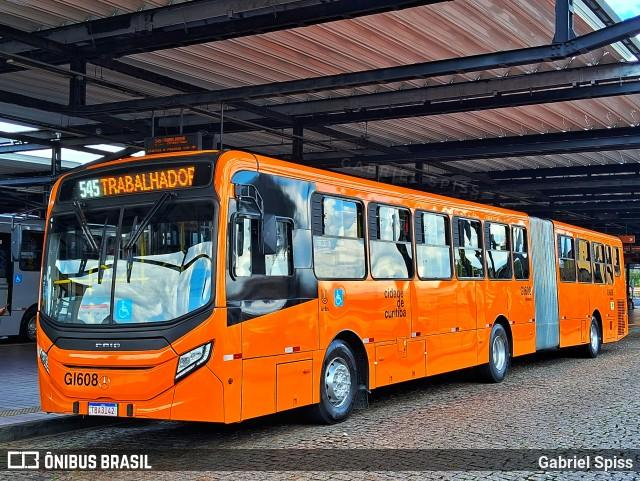TRABALHADOR: (96, 164, 200, 200)
